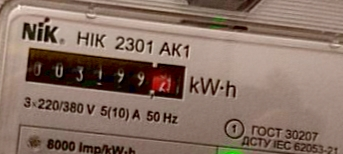0: (29, 57, 43, 76), (52, 58, 64, 78)
1: (94, 60, 103, 79)
3: (73, 63, 82, 82)
6: (156, 78, 166, 94)
9: (134, 69, 144, 87), (114, 64, 123, 83)
screen: (18, 42, 192, 106)
